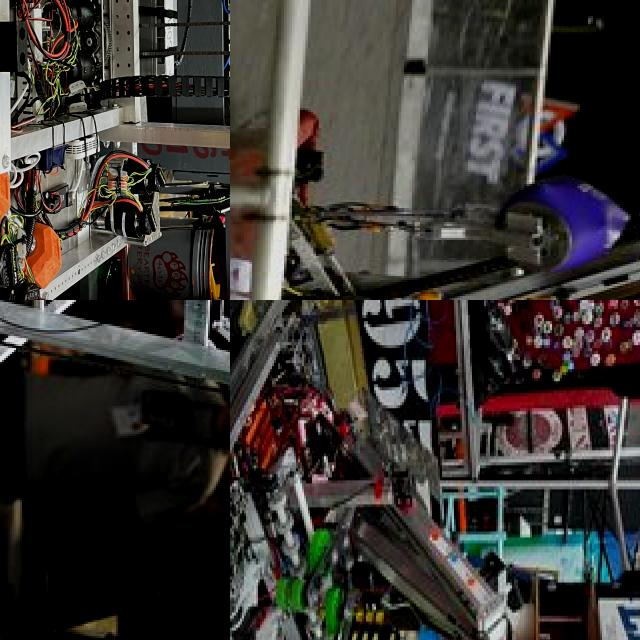FRC-Robots: (230, 300, 532, 640), (230, 71, 640, 300), (0, 300, 230, 640), (0, 0, 230, 300)
